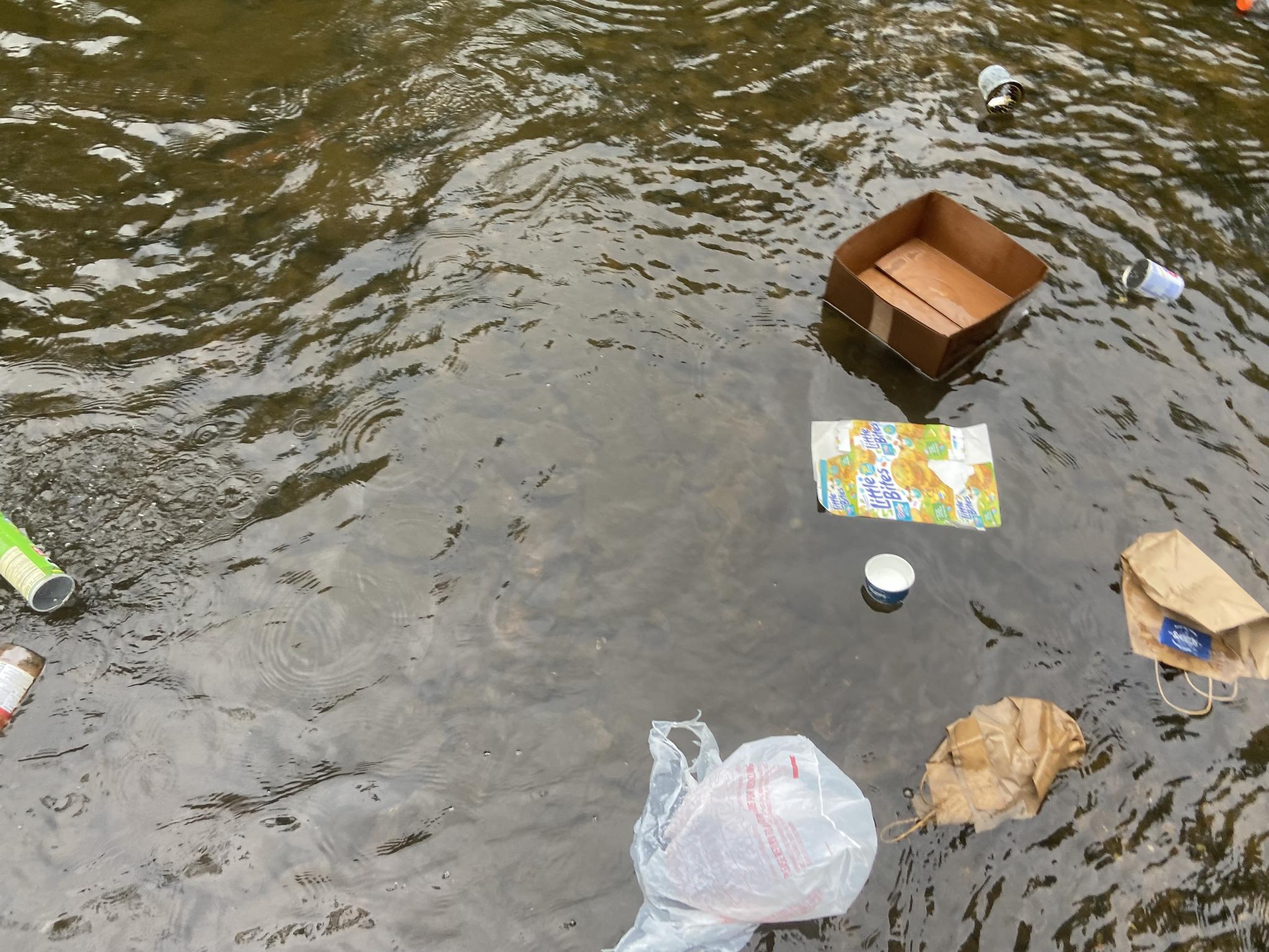cardboard: (214, 562, 463, 771), (256, 416, 466, 541)
glass: (1212, 206, 1269, 316)
metal: (1188, 332, 1269, 453), (67, 641, 159, 700), (233, 833, 299, 896)
paper: (174, 94, 397, 264), (0, 230, 164, 433), (339, 334, 413, 408)
plastic: (386, 0, 685, 250), (0, 930, 43, 952)
